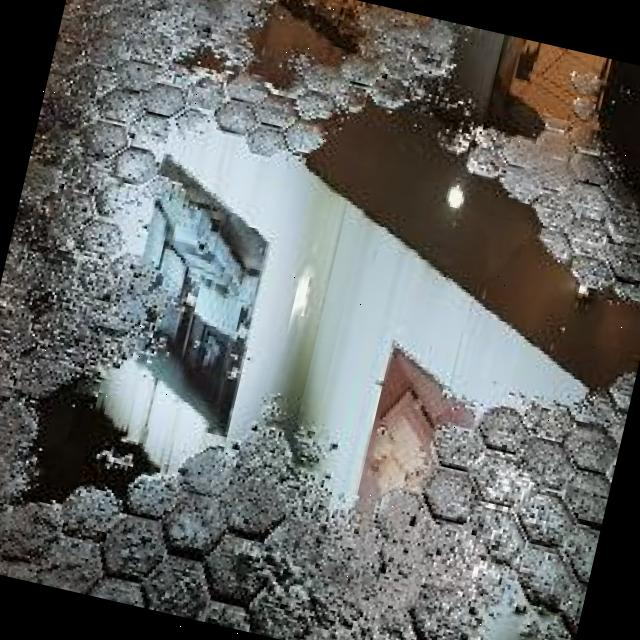stagnation: (2, 29, 640, 634)
